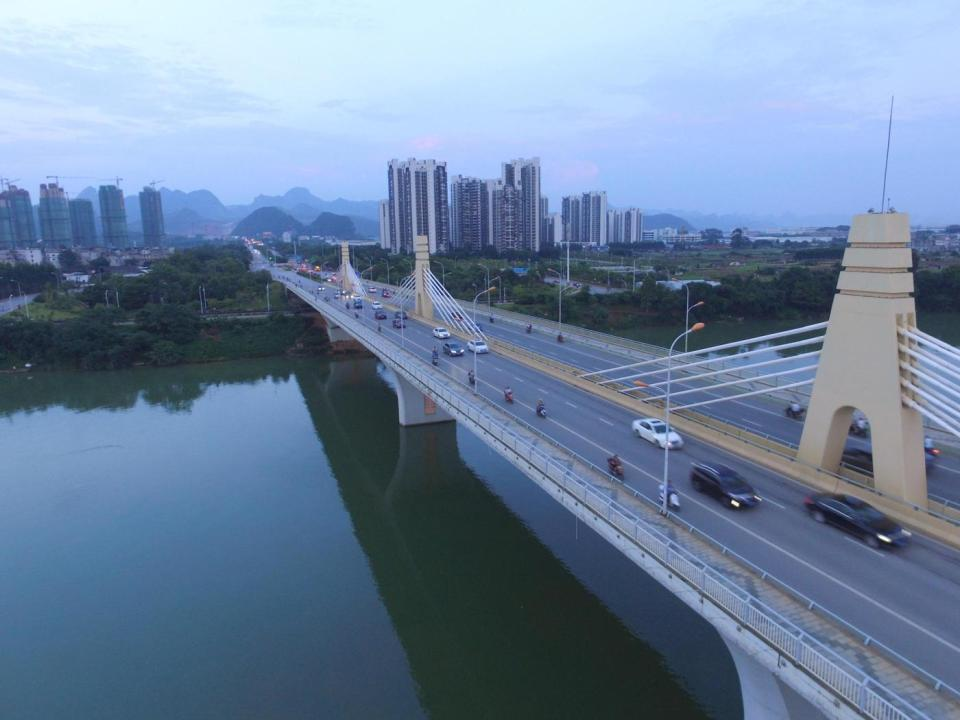bus: (314, 265, 320, 271)
car: (804, 490, 912, 551), (688, 460, 760, 510), (839, 444, 932, 474), (632, 417, 684, 450), (466, 340, 490, 353), (442, 342, 464, 356), (433, 327, 451, 339), (391, 318, 406, 329), (394, 310, 408, 320), (470, 322, 482, 332), (374, 310, 387, 319), (353, 300, 364, 310), (450, 311, 463, 318), (381, 290, 391, 298), (372, 302, 382, 309), (344, 291, 353, 298), (354, 295, 362, 302), (368, 286, 376, 292), (338, 288, 344, 295), (554, 278, 560, 284), (572, 282, 580, 286)
van: (333, 292, 341, 298), (318, 284, 324, 290)
